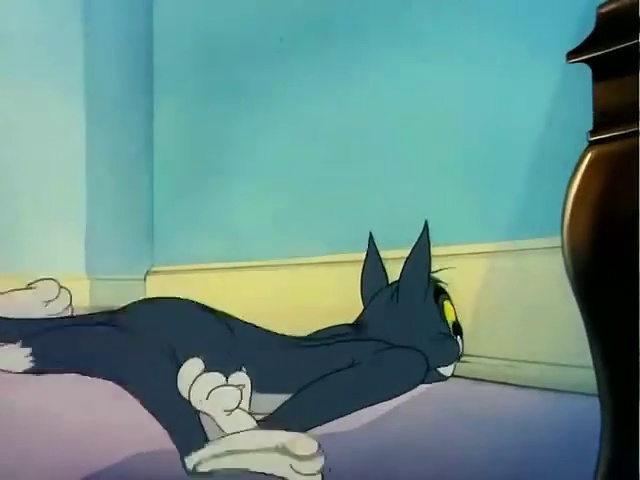tom: (8, 204, 476, 473)
